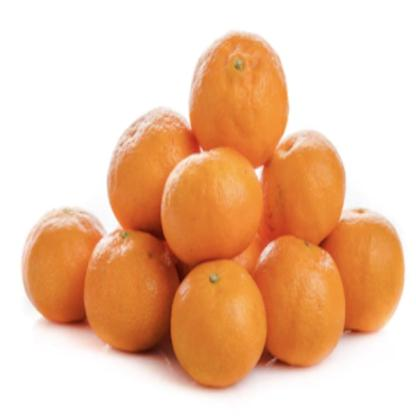fresh: (20, 26, 403, 393)
